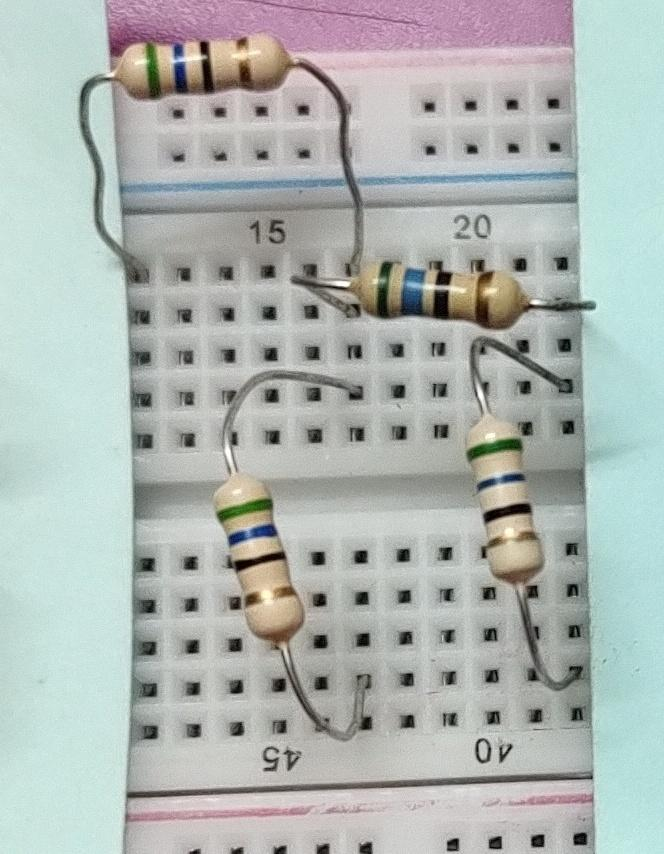resistor: (202, 470, 336, 661), (457, 405, 553, 603), (340, 255, 530, 333), (110, 32, 308, 102)
